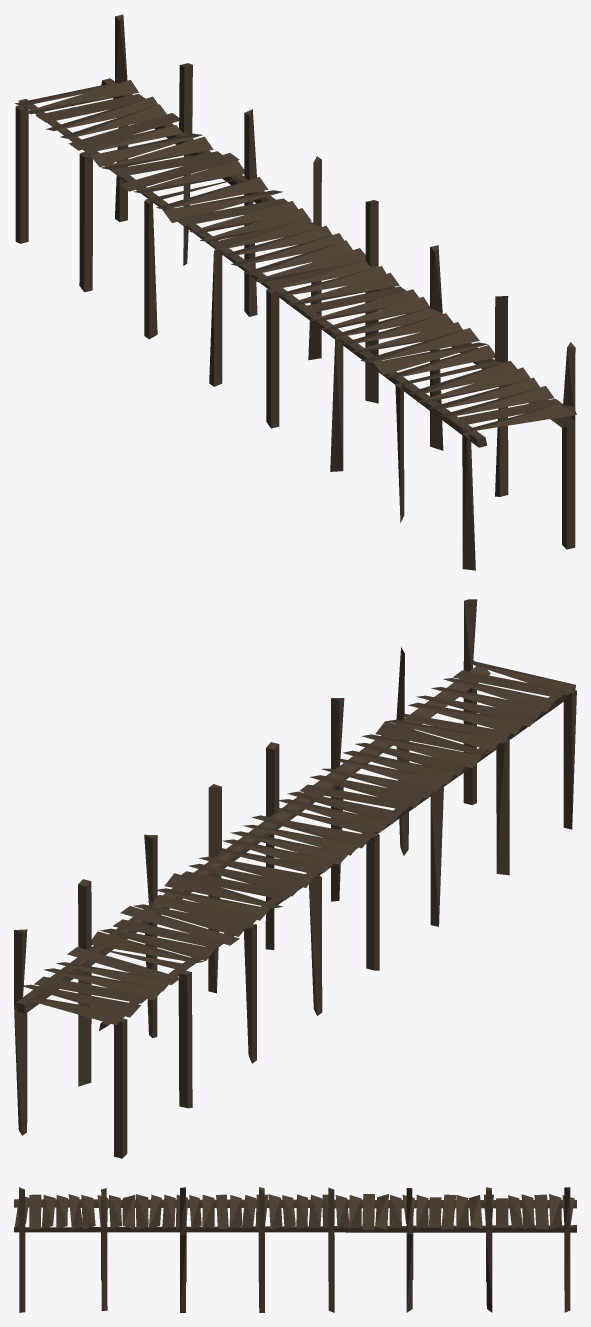
File: old-bridge.zfix-v14.lod2.glb
3 renders of one model, top to bottom at view 1: azimuth 30°, elevation 25°; view 2: azimuth 150°, elevation 25°; view 3: azimuth 270°, elevation 25°, orthographic. The views are drawn at different scales.
Visible parts, largest first — view 1: defaultMaterial; view 2: defaultMaterial; view 3: defaultMaterial.
Part boxes in pixels (left/top/right/bottom): defaultMaterial: left=14, top=14, right=576, bottom=570; defaultMaterial: left=14, top=599, right=576, bottom=1158; defaultMaterial: left=14, top=1187, right=576, bottom=1312.
Size of the model in its own units: 2.63 by 4.59 by 19.
